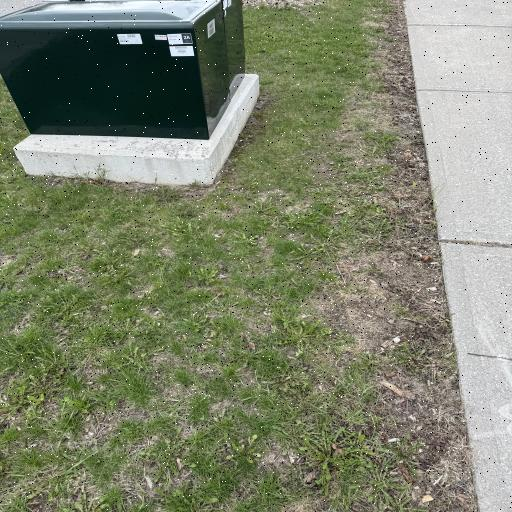Electrical Box: (0, 0, 262, 142)
